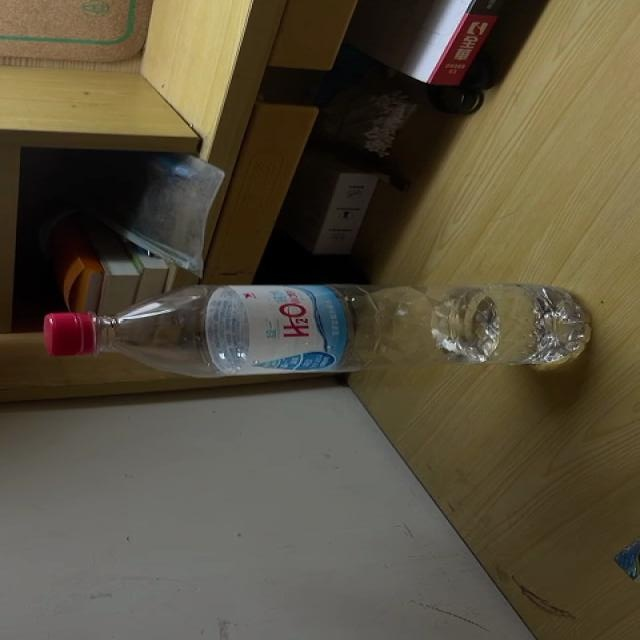Water: (40, 282, 592, 378)
